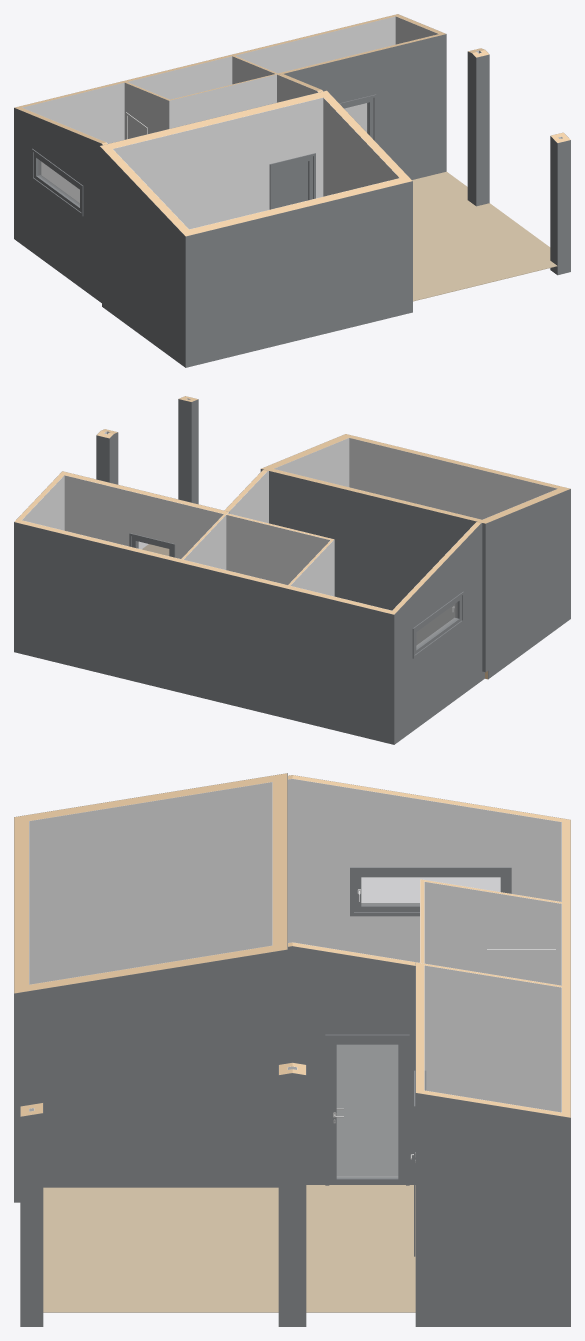
File: tomas.urbsas@tylosnamai.fbx
3 renders of one model, top to bottom at view 1: azimuth 30°, elevation 25°; view 2: azimuth 150°, elevation 25°; view 3: azimuth 270°, elevation 25°, orthographic. The views are drawn at different scales.
Parts seen in each view (by area): view 1: IfcWall/Part:2497108, IfcWall/Part:2497101, IfcWall/Part:2497105, IfcWall/Part:2497114, IfcSlab/Floor:terasa:2502414, IfcWall/Part:2497087, IfcWall/Part:2497119, IfcWall/Part:2497089, IfcWall/Part:2497096, IfcDoor/Durys išorinės:1000x2100x200 (dešininės) saldytuvui, IfcWall/Part:2497138, IfcWall/Part:2497093 (+13 smaller); view 2: IfcWall/Part:2497120, IfcWall/Part:2497102, IfcWall/Part:2497105, IfcWall/Part:2497087, IfcWall/Part:2497107, IfcWall/Part:2497113, IfcWall/Part:2497095, IfcWall/Part:2497089, IfcWindow/Langai (Akrusta):2000x600x120 (dešininis):2493239, IfcWall/Part:2497121, IfcWall/Part:2497123, IfcWall/Part:2497093 (+13 smaller); view 3: IfcWall/Part:2497090, IfcSlab/Floor:terasa:2502414, IfcWall/Part:2497104, IfcWall/Part:2497117, IfcWall/Part:2497086, IfcWall/Part:2497098, IfcWall/Part:2497111, IfcDoor/Durys išorinės:1000x2100x120 (dešininės):2492279, IfcWall/Part:2497092, IfcSlab/Floor:Sumustinis pilnas 145mm:2501235, IfcWall/Part:2497144, IfcWindow/Langai (Akrusta):2000x600x120 (dešininis):2493239 (+9 smaller).
Part boxes in pixels (x1,y1,x2,y2): IfcWall/Part:2497108: (185,181,412,367); IfcWall/Part:2497101: (113,97,323,229); IfcWall/Part:2497105: (99,146,185,367); IfcWall/Part:2497114: (284,34,446,179); IfcSlab/Floor:terasa:2502414: (412,171,557,301); IfcWall/Part:2497087: (14,107,102,302); IfcWall/Part:2497119: (22,16,395,202); IfcWall/Part:2497089: (323,98,399,196); IfcWall/Part:2497096: (169,74,276,128); IfcDoor/Durys išorinės:1000x2100x200 (dešininės) saldytuvui: (269,153,315,209); IfcWall/Part:2497138: (476,54,489,205); IfcWall/Part:2497093: (124,83,168,139); IfcWall/Part:2497120: (14,522,394,744); IfcWall/Part:2497102: (260,469,485,672); IfcWall/Part:2497105: (485,489,570,679); IfcWall/Part:2497087: (394,523,484,744); IfcWall/Part:2497107: (349,438,557,519); IfcWall/Part:2497113: (64,475,223,558); IfcWall/Part:2497095: (226,515,330,584); IfcWall/Part:2497089: (274,438,349,486); IfcWindow/Langai (Akrusta):2000x600x120 (dešininis):2493239: (412,591,463,658); IfcWall/Part:2497121: (15,519,396,614); IfcWall/Part:2497123: (178,399,191,502); IfcWall/Part:2497093: (290,540,334,596); IfcWall/Part:2497090: (14,949,287,1202); IfcSlab/Floor:terasa:2502414: (43,1185,415,1312); IfcWall/Part:2497104: (29,782,272,984); IfcWall/Part:2497117: (415,1093,570,1326); IfcWall/Part:2497086: (288,778,561,962); IfcWall/Part:2497098: (424,965,561,1112); IfcWall/Part:2497111: (288,946,415,1184); IfcDoor/Durys išorinės:1000x2100x120 (dešininės):2492279: (325,1034,409,1185); IfcWall/Part:2497092: (424,882,561,985); IfcSlab/Floor:Sumustinis pilnas 145mm:2501235: (336,1044,398,1175); IfcWall/Part:2497144: (278,1073,306,1326); IfcWindow/Langai (Akrusta):2000x600x120 (dešininis):2493239: (350,867,511,916).
Bounding box in the file's own units: 920 × 362 × 720.
